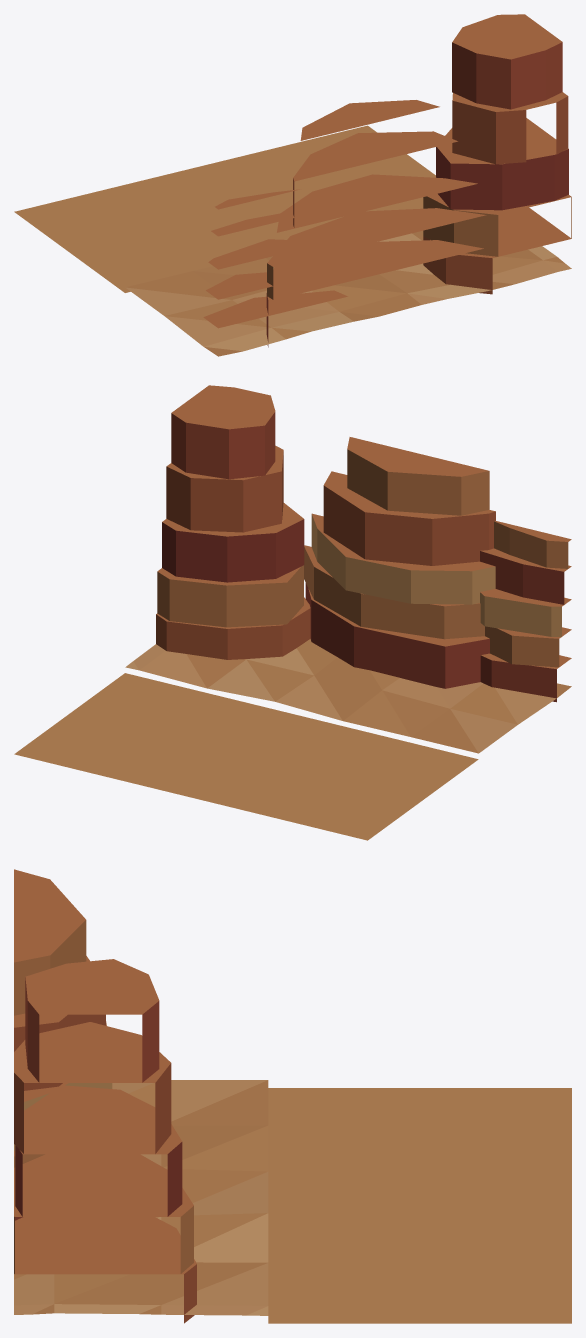
The picture shows the model from 3 angles, top to bottom: view 1: azimuth 30°, elevation 25°; view 2: azimuth 150°, elevation 25°; view 3: azimuth 270°, elevation 25°; orthographic projection. The views are drawn at different scales.
Visible parts, largest first — view 1: baked; view 2: baked; view 3: baked.
Part boxes in pixels (box(x1,y1,x2,y2)): baked: box(14, 14, 571, 356); baked: box(14, 385, 571, 840); baked: box(14, 869, 571, 1323).
Bounding box in the file's own units: 62.5 × 38.2 × 62.5.
